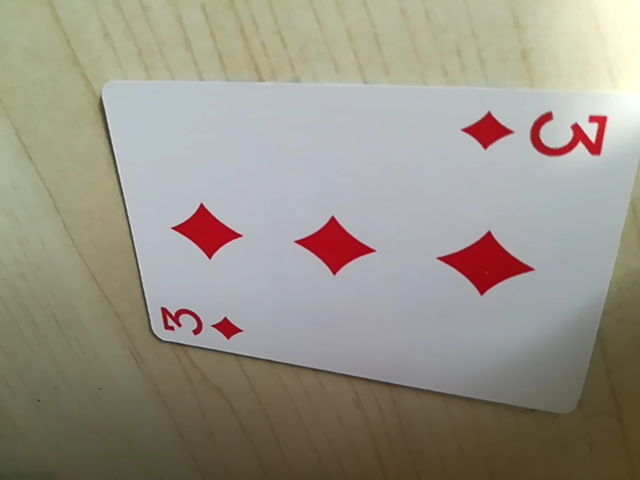fk 3: (459, 103, 607, 163), (153, 300, 249, 348)
